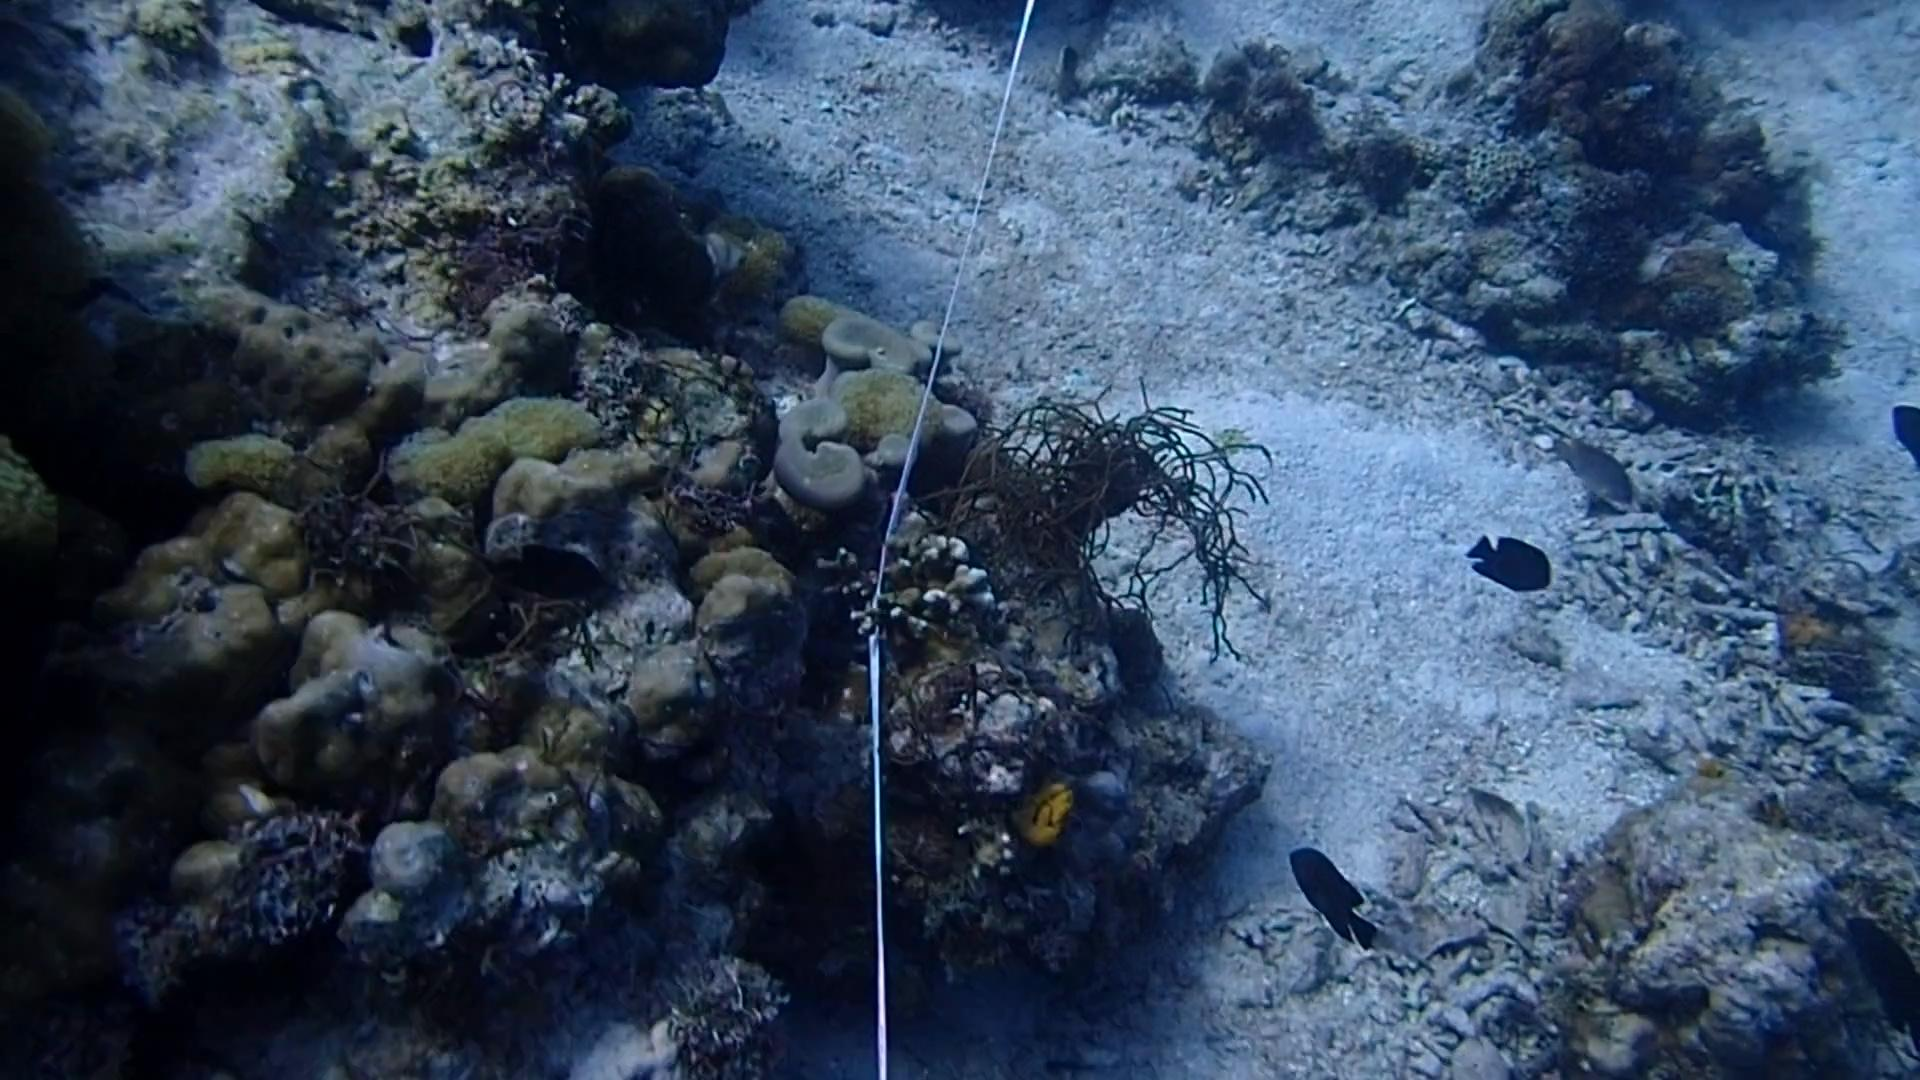Dark Fish: (1270, 839, 1390, 956), (1836, 914, 1920, 1054), (1464, 521, 1551, 605)
Light Fish: (1543, 429, 1647, 513)
